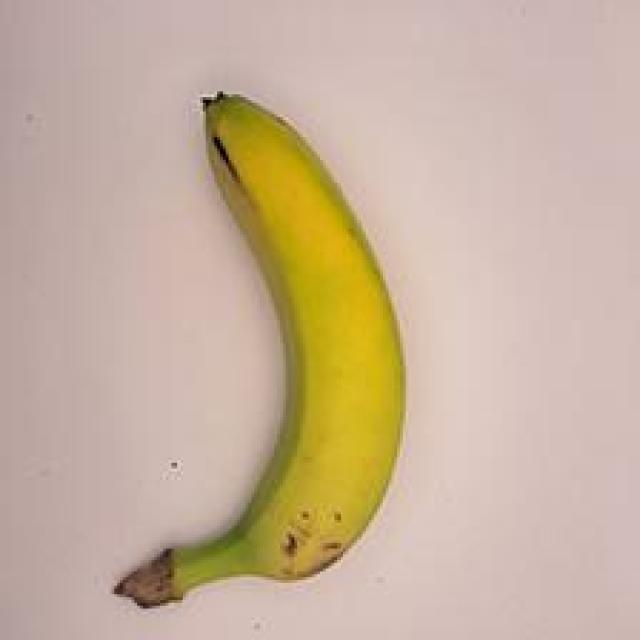unripe: (64, 67, 441, 636)
